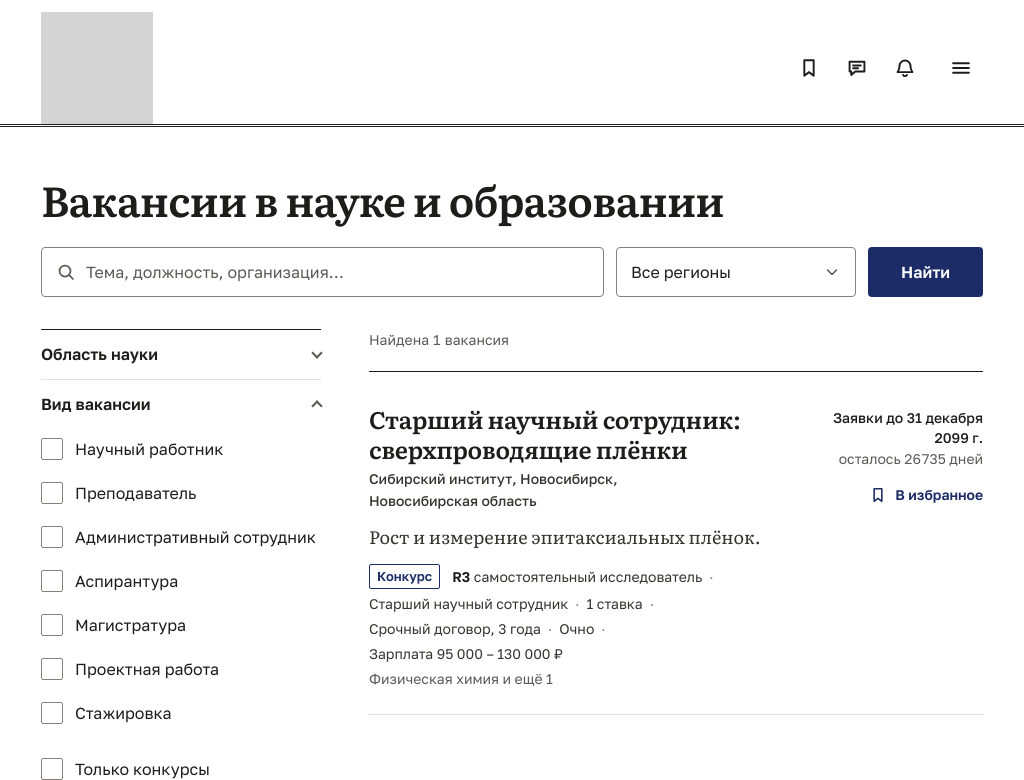
Test: favorite button › goes back and says why when the server refuses
The image size is (1024, 780).
Click the button "В избранное" at (926,495), box [857,477,995,513]
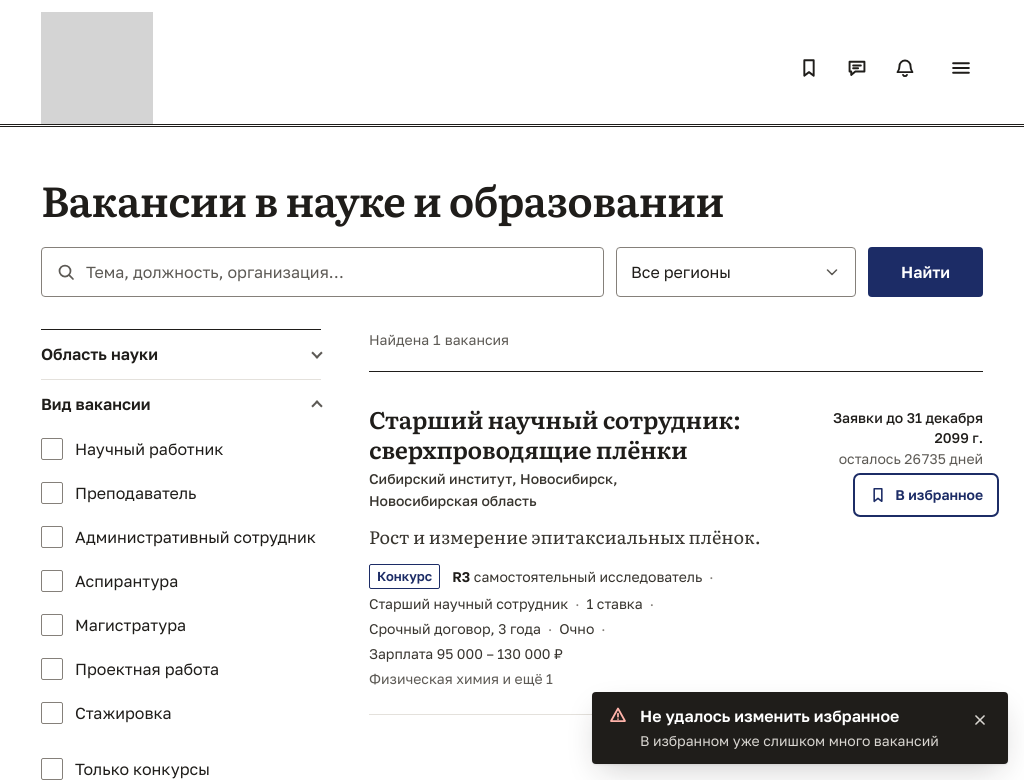
Now the text "Не удалось изменить избранное" is shown, box [640,706,899,726]
Now the text "В избранном уже слишком много вакансий" is shown, box [640,730,952,752]
